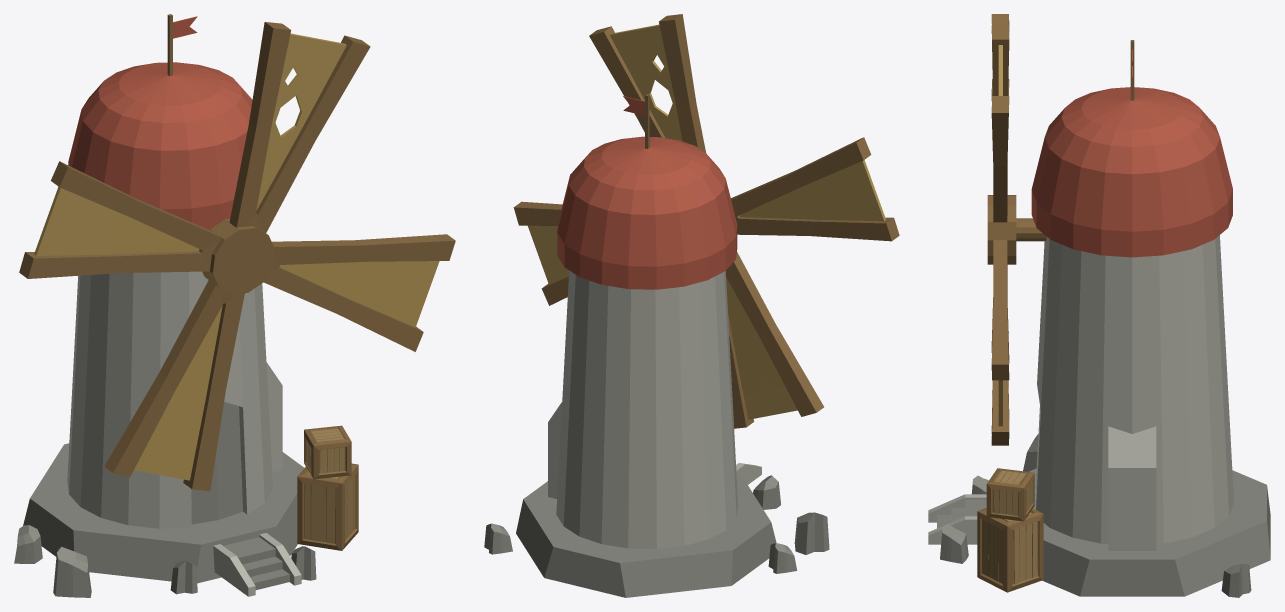
The model's file is windmillgltf.gltf.
3 views of the same model, side by side, from view 1: azimuth 30°, elevation 25°; view 2: azimuth 150°, elevation 25°; view 3: azimuth 270°, elevation 25° (orthographic). The views are drawn at different scales.
Visible parts, largest first — view 1: Windmill_SecondAge; view 2: Windmill_SecondAge; view 3: Windmill_SecondAge.
Boxes of the visible parts, left/top/right/bottom form: Windmill_SecondAge: left=14, top=14, right=455, bottom=597; Windmill_SecondAge: left=484, top=14, right=899, bottom=597; Windmill_SecondAge: left=928, top=14, right=1270, bottom=597.
Size of the model in its own units: 1.34 by 1.61 by 0.9424.
